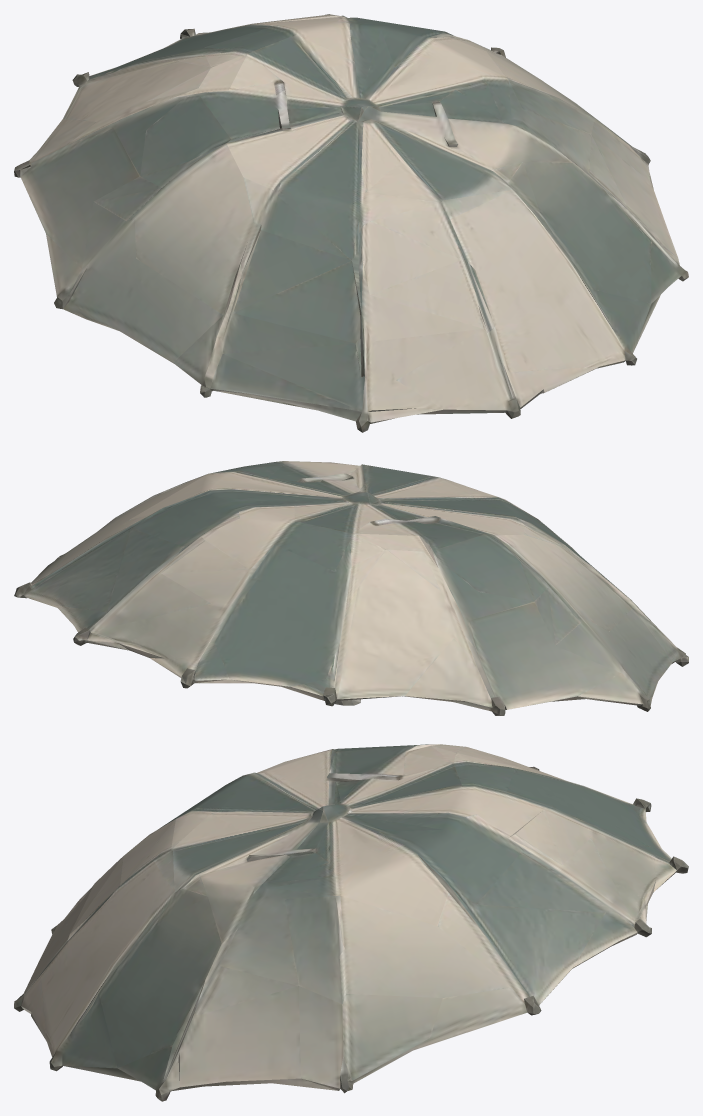
Rendered from landing-platform-parasol.glb.
3 views of the same model, one above another, from view 1: azimuth 30°, elevation 25°; view 2: azimuth 150°, elevation 25°; view 3: azimuth 270°, elevation 25° (orthographic).
Visible parts, largest first — view 1: output_unwrapped; view 2: output_unwrapped; view 3: output_unwrapped.
Part boxes in pixels (<box>): output_unwrapped: <box>14,14,688,432</box>; output_unwrapped: <box>14,461,688,715</box>; output_unwrapped: <box>14,744,688,1101</box>.
Size of the model in its own units: 1.9 by 0.6796 by 1.85.
1 material, 1 textured.
